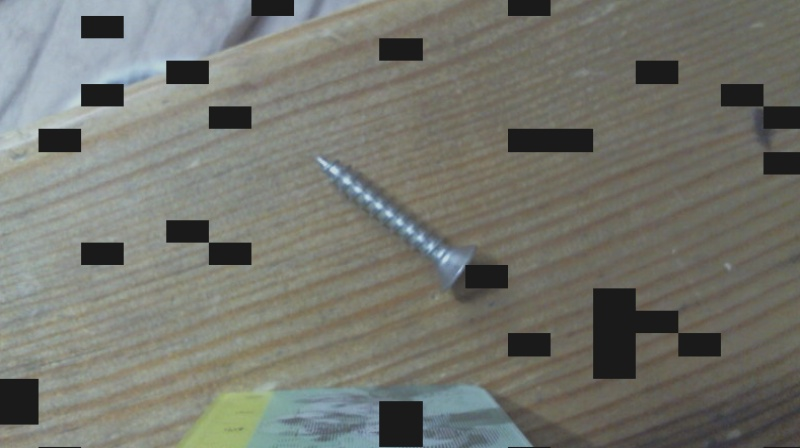S001: (311, 149, 484, 296)
